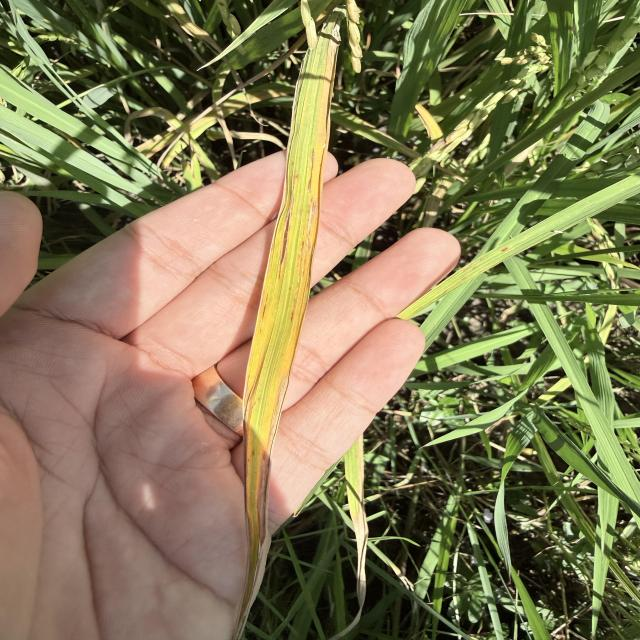Chay bia la: (231, 44, 307, 640)
